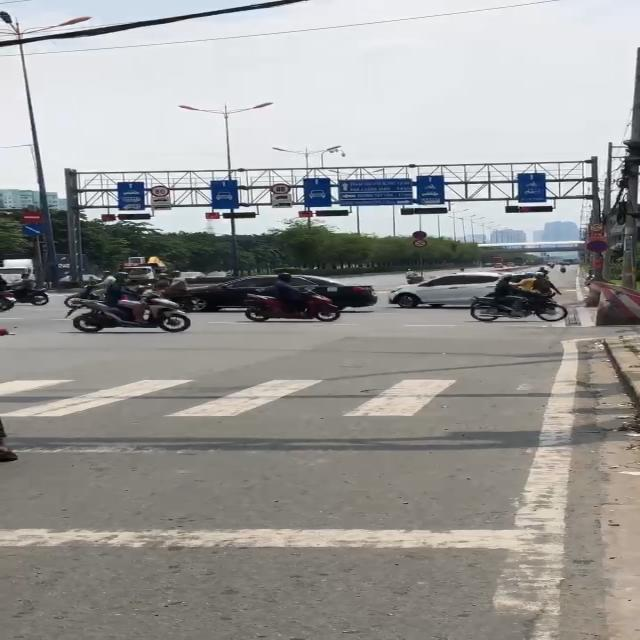Bien bao cam di nguoc chieu: (20, 208, 45, 224)
Bien bao huong phai di vong chuong ngai vat: (20, 224, 49, 237)
Bien bao toc do toi da cho phep: (148, 185, 171, 197)
